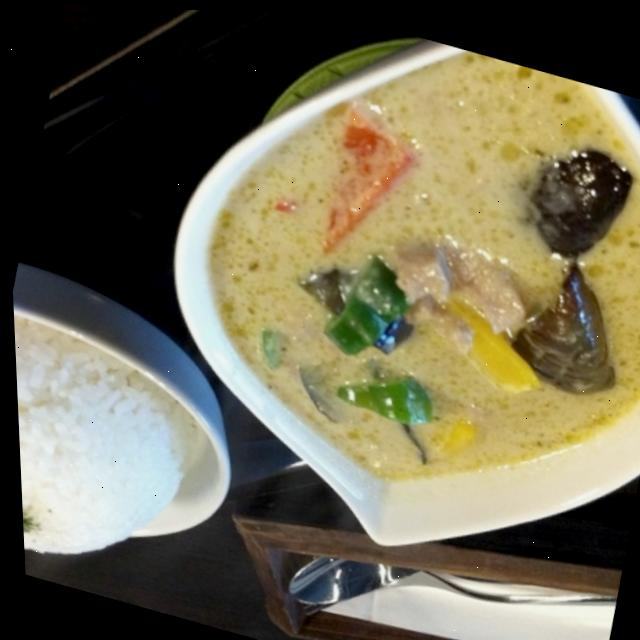米饭主食: (0, 0, 606, 640)
